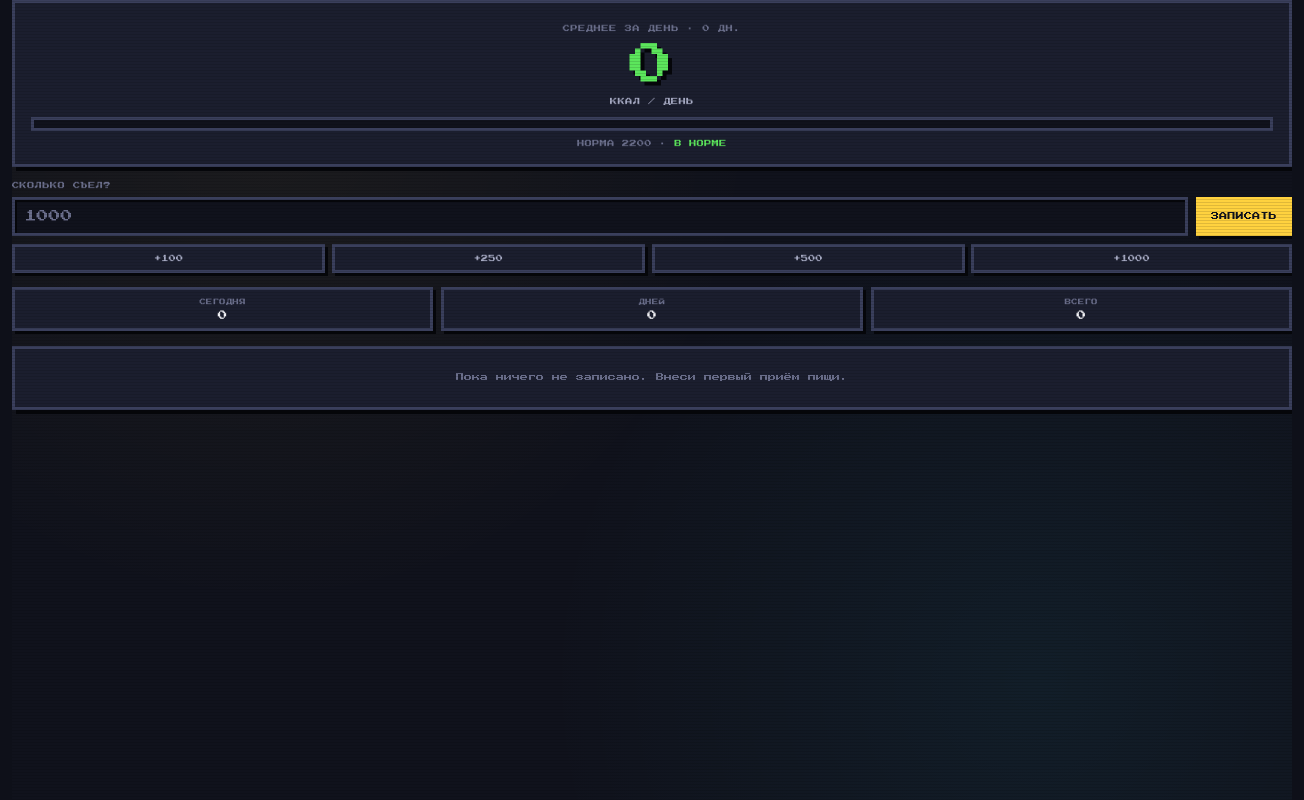
Scenario: CaloriePageComponent › validation › rejects a negative amount
In the number field with class "entry-input": (600,216) [12, 197, 1188, 236], type "-500"
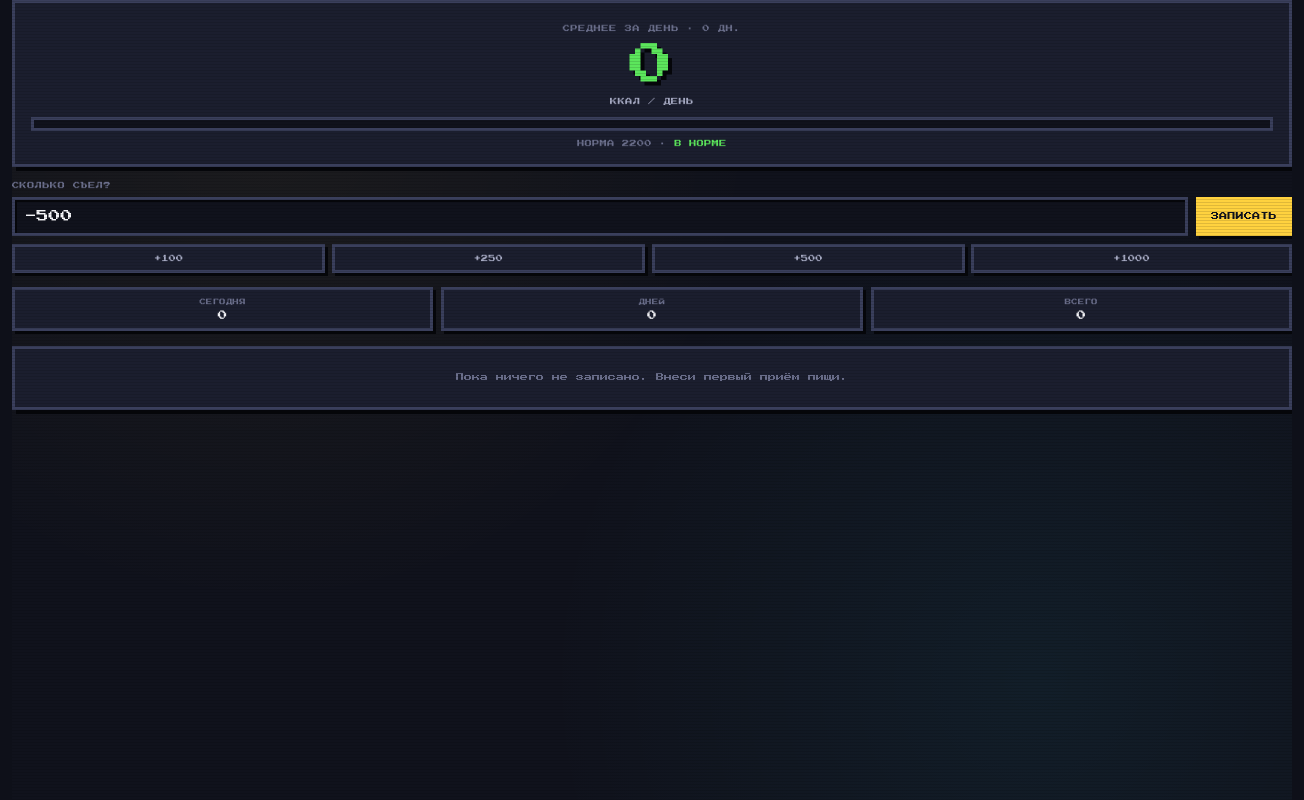
Submit the form with class "entry-form", box [12, 182, 1292, 272]
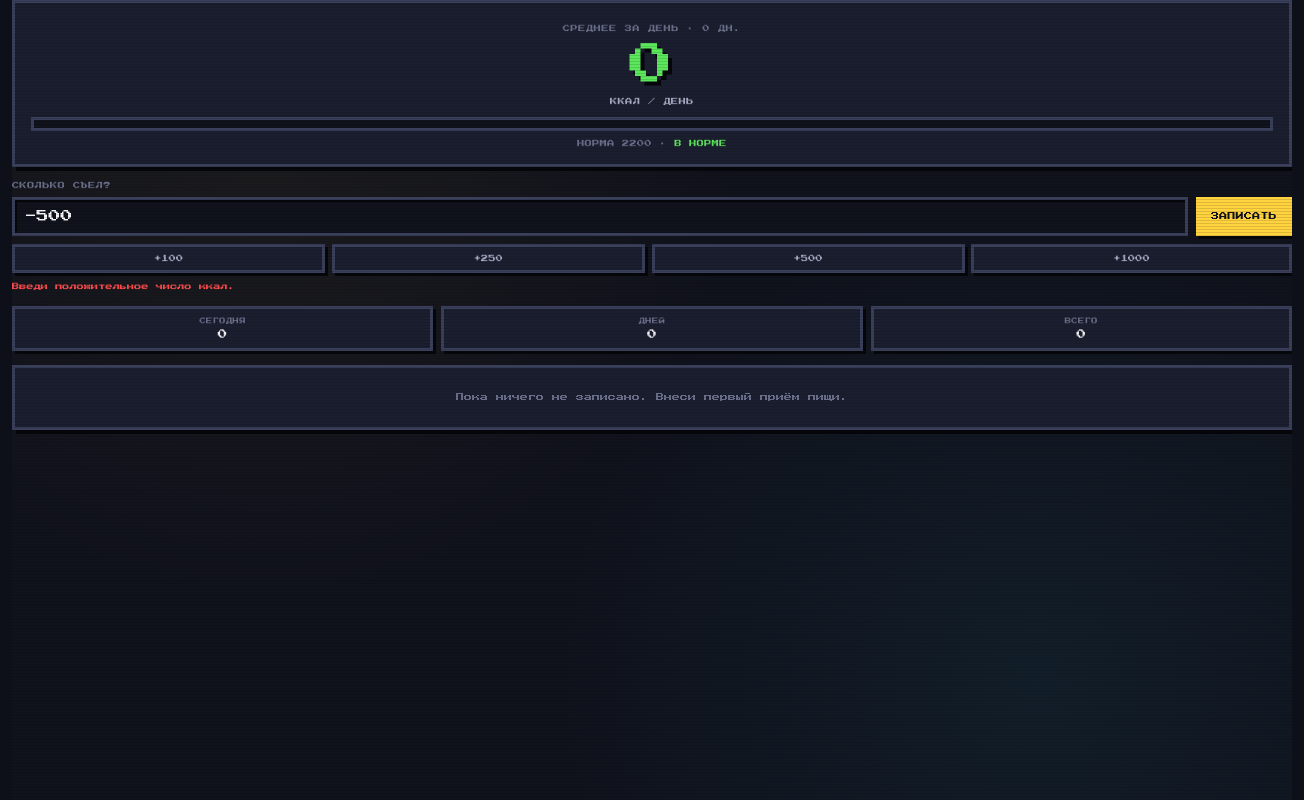
Expected: the message "Введи положительное число ккал." is shown, [12, 282, 235, 290]
